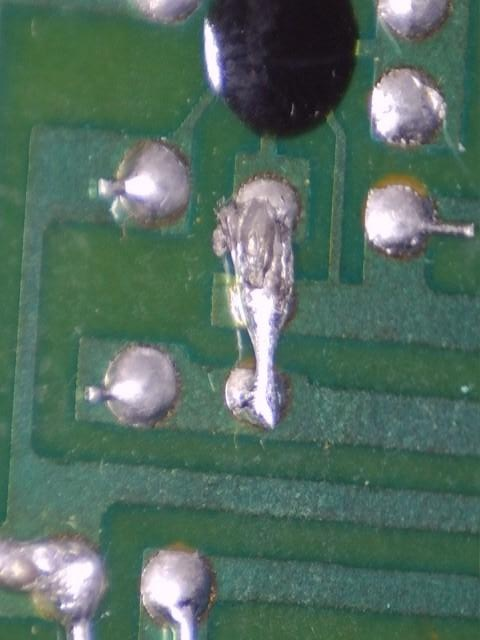pcb_defect: (214, 180, 298, 430)
